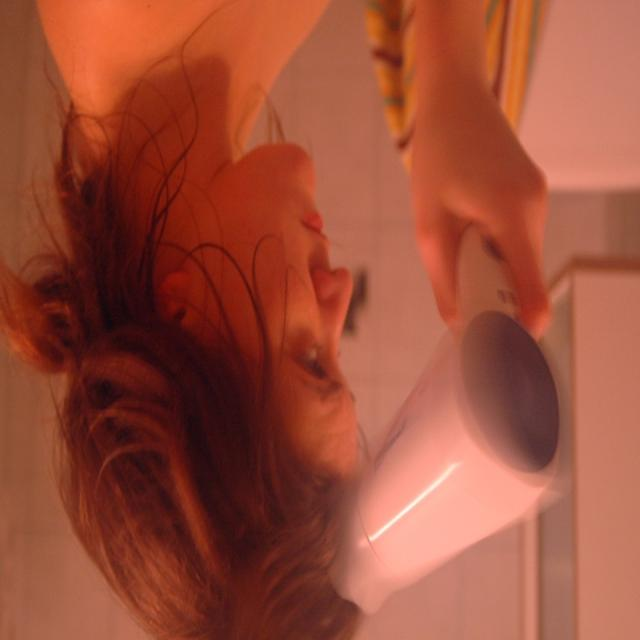dryer: (307, 84, 576, 634)
